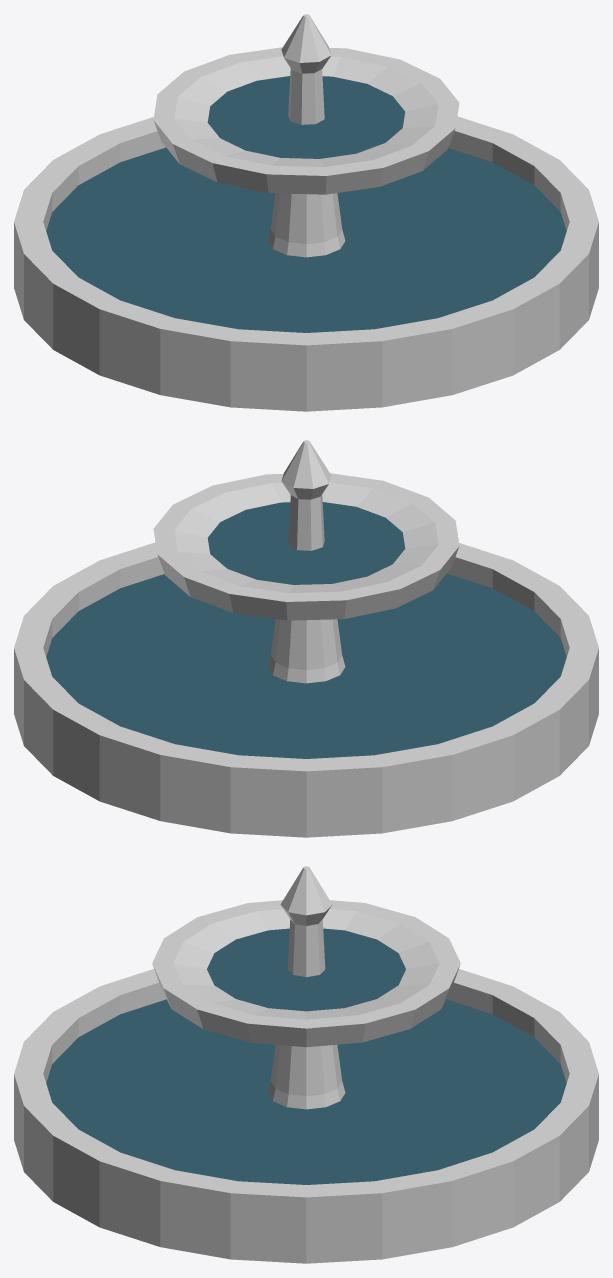
The model's file is fountain.glb.
3 renders of one model, top to bottom at view 1: azimuth 30°, elevation 25°; view 2: azimuth 150°, elevation 25°; view 3: azimuth 270°, elevation 25°, orthographic.
Parts seen in each view (by area): view 1: fountain; view 2: fountain; view 3: fountain.
Part boxes in pixels (x1,y1,x2,y2): fountain: (14,14,598,411); fountain: (14,440,598,837); fountain: (14,866,598,1263).
Size of the model in its own units: 4.32 by 2.22 by 4.32.
